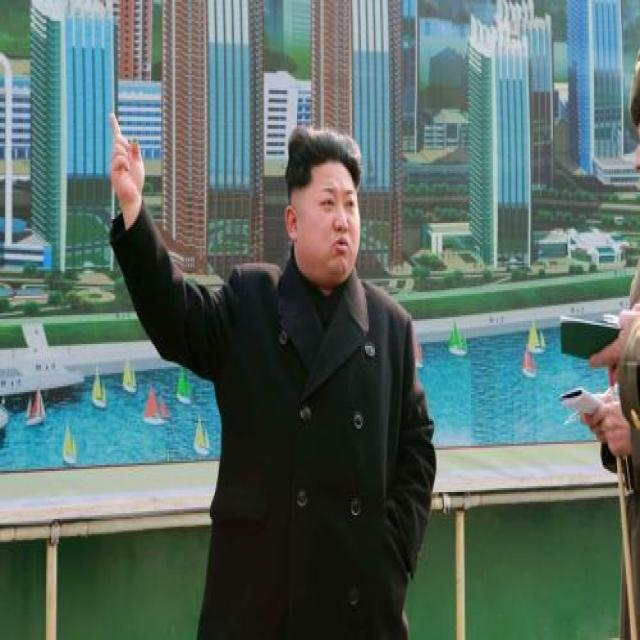no-helmet: (283, 123, 370, 286)
